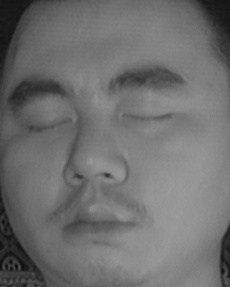blink: (123, 97, 171, 135), (26, 102, 72, 140)
mouth: (53, 194, 137, 248)
